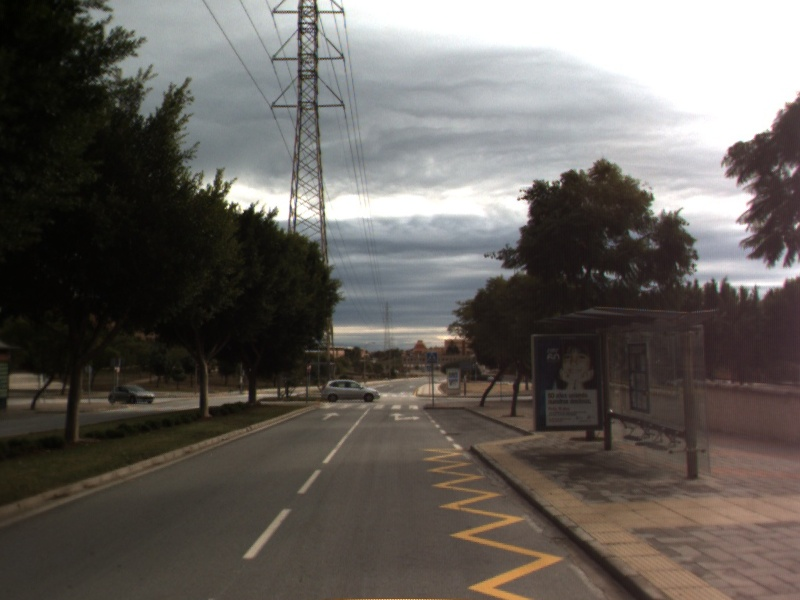STRAIGHT: (319, 409, 343, 422)
STRAIGHT_RIGHT: (387, 410, 423, 423)
